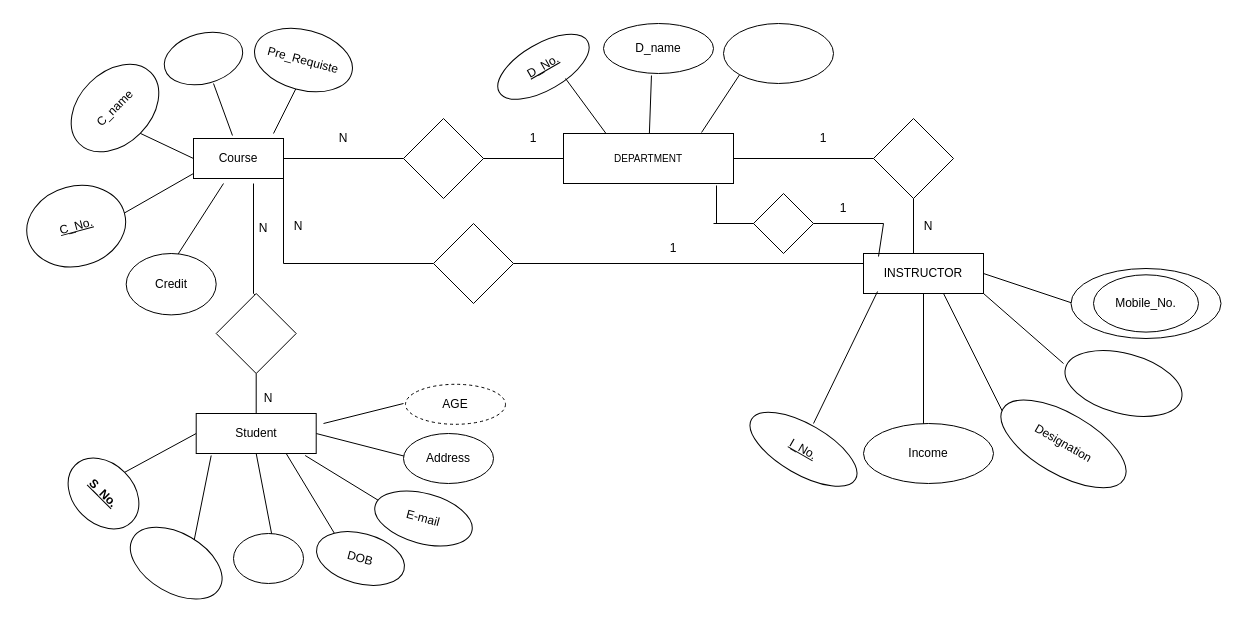
Image size: 1239x632. Some labels were removed from this diagram. The shapes that lost their labels are listed below. From the top down, each one's centre as x and y in pixels, then its label:
At (203,58): "Duration".
At (778,53): "D_Location".
At (443,158): "Offers".
At (913,158): "HAS".
At (783,223): "is headed by".
At (473,263): "i.e taught by".
At (255,333): "Entrolled_by".
At (1123,383): "Room_No.".
At (175,562): "S_Name".
At (268,558): "Gender".
